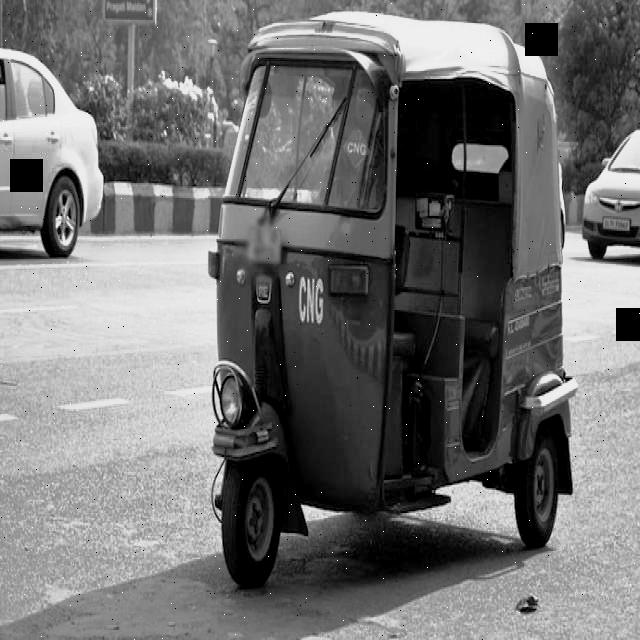Auto-Rickshaw: (204, 16, 587, 598)
